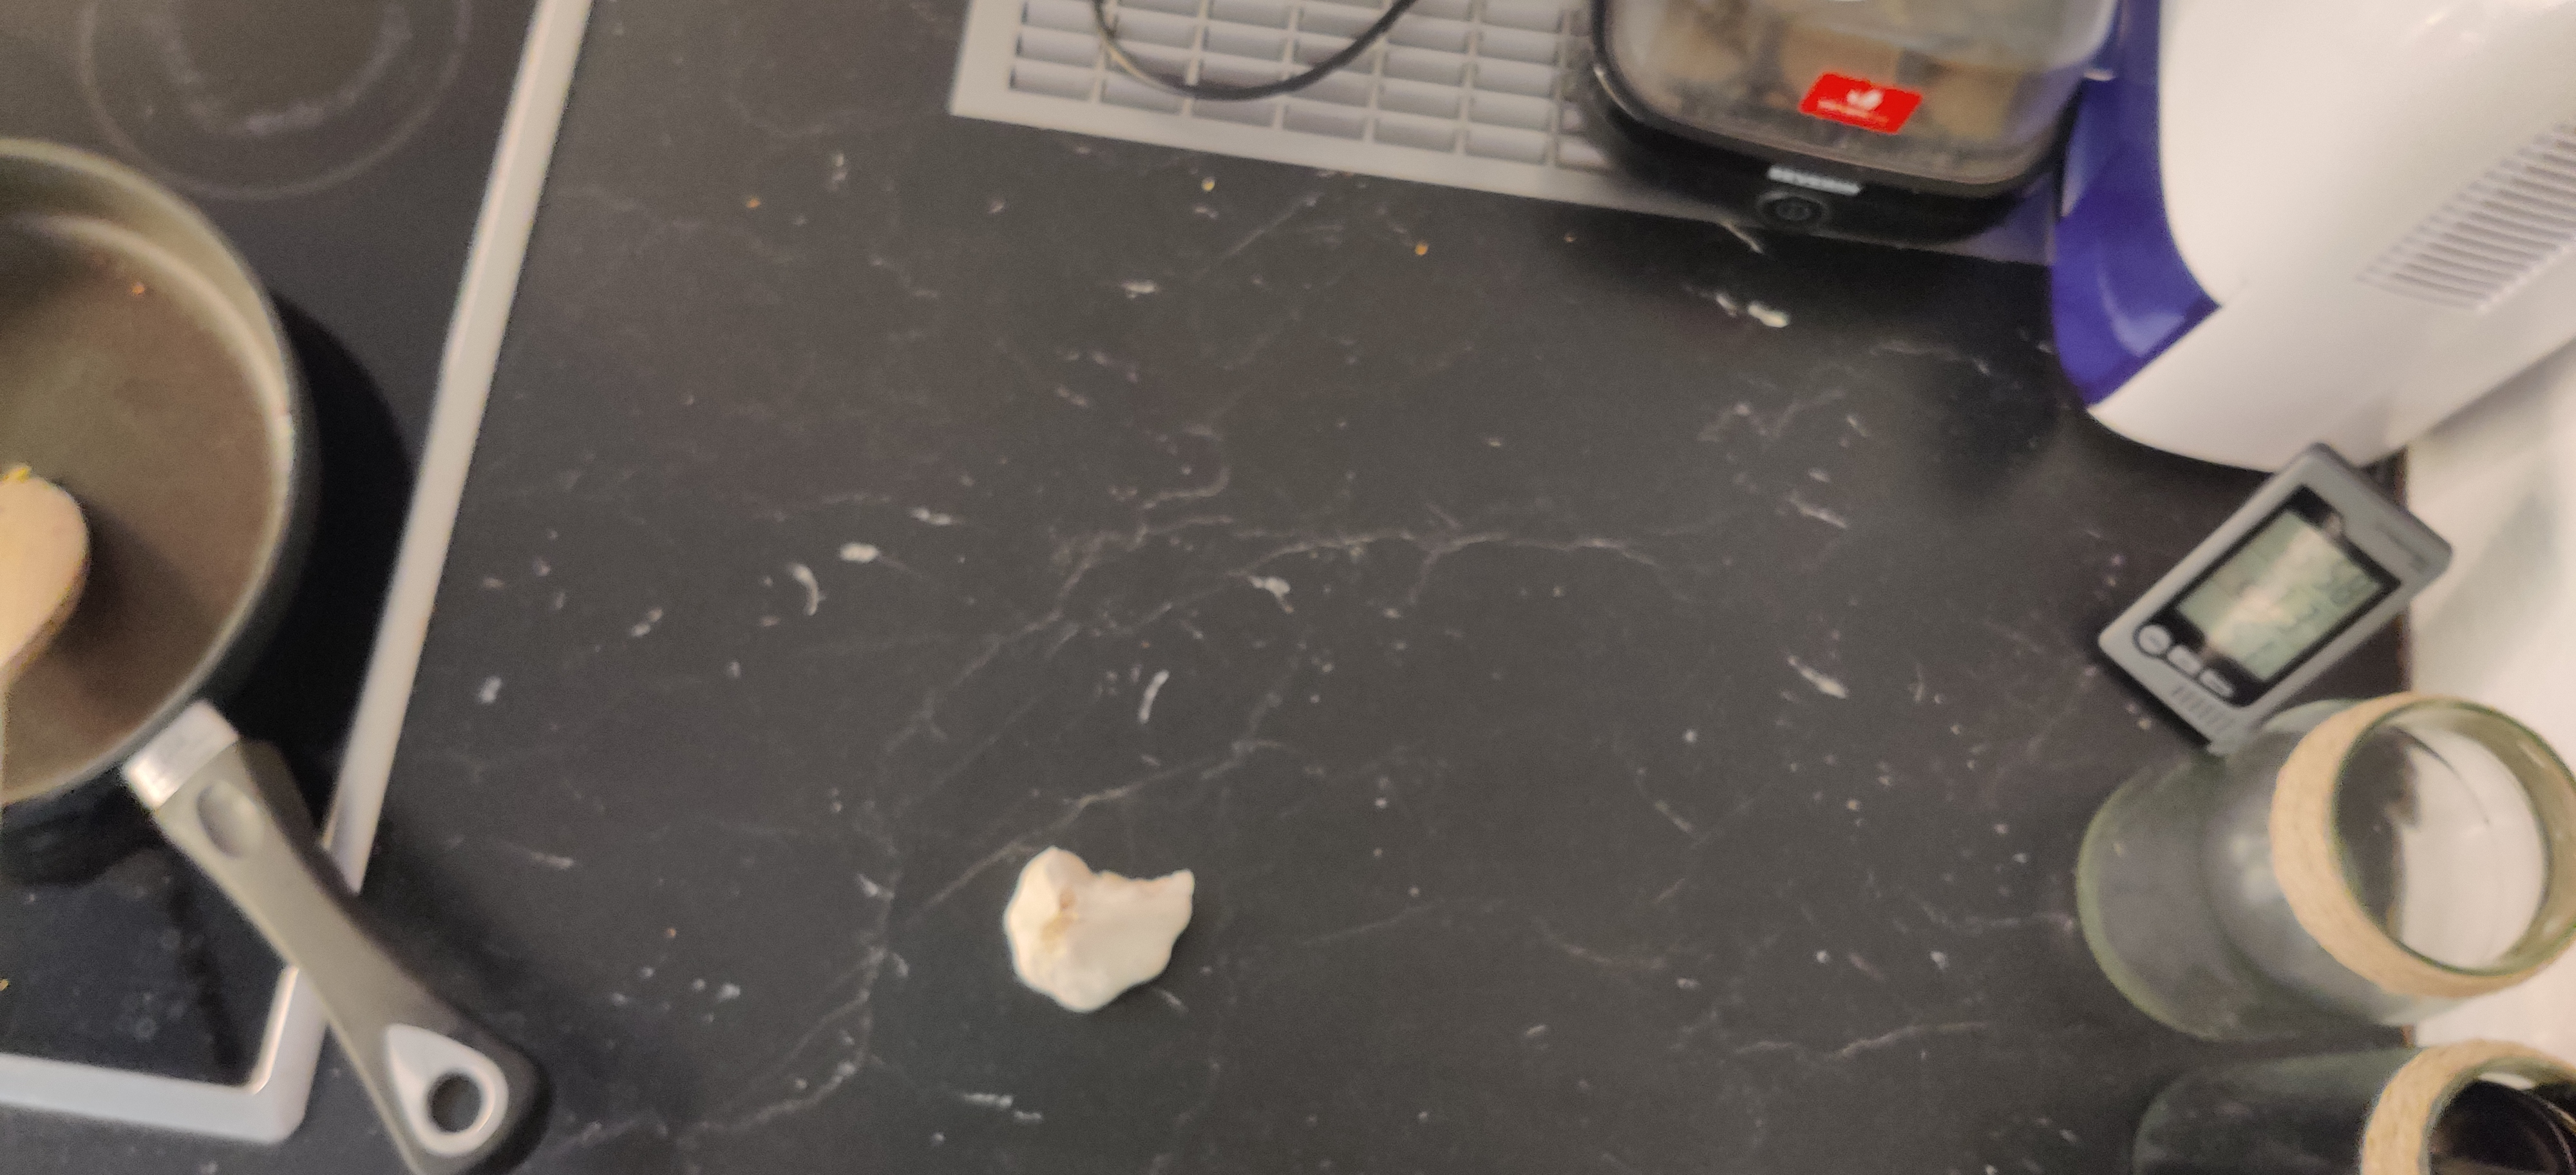Knoblauch: (1005, 845, 1193, 1012)
